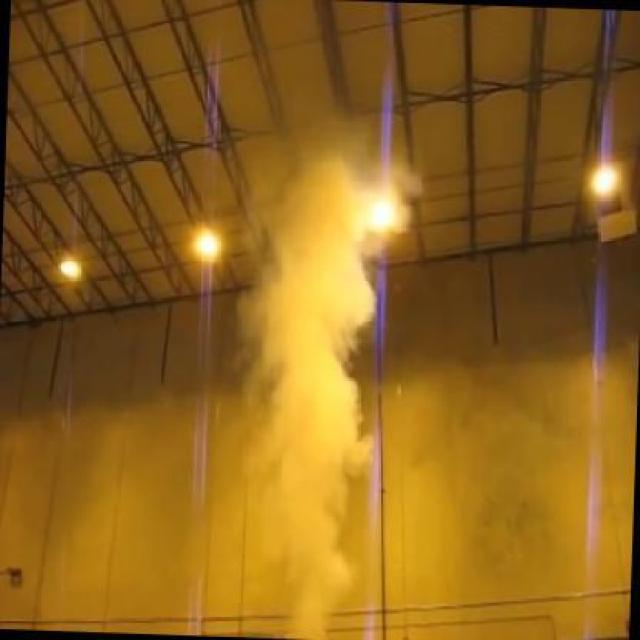fire: (232, 136, 412, 638)
